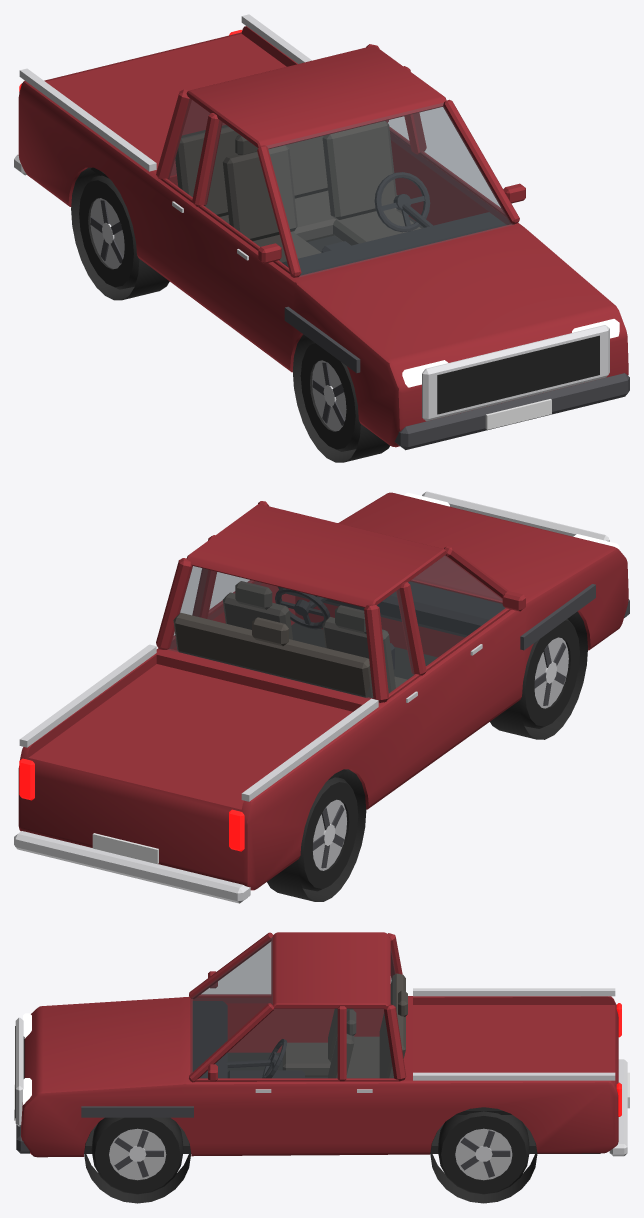
Rendered from pickup_us.glb.
3 views of the same model, one above another, from view 1: azimuth 30°, elevation 25°; view 2: azimuth 150°, elevation 25°; view 3: azimuth 270°, elevation 25° (orthographic). The views are drawn at different scales.
Visible parts, largest first — view 1: pickup_us_body, glass, wheel_RR, wheel_FR, steering_wheel; view 2: pickup_us_body, glass, wheel_RR, wheel_FR, steering_wheel; view 3: pickup_us_body, glass, wheel_RL, wheel_FL, steering_wheel.
Boxes of the visible parts, bbox=[...] form: pickup_us_body: bbox=[14, 14, 629, 462]; glass: bbox=[168, 99, 513, 277]; wheel_RR: bbox=[79, 175, 139, 289]; wheel_FR: bbox=[300, 341, 360, 451]; steering_wheel: bbox=[374, 172, 430, 232]; pickup_us_body: bbox=[14, 491, 629, 903]; glass: bbox=[168, 555, 504, 698]; wheel_RR: bbox=[298, 777, 358, 891]; wheel_FR: bbox=[520, 619, 579, 728]; steering_wheel: bbox=[275, 587, 330, 629]; pickup_us_body: bbox=[14, 932, 629, 1203]; glass: bbox=[190, 937, 395, 1077]; wheel_RL: bbox=[438, 1111, 529, 1194]; wheel_FL: bbox=[91, 1117, 183, 1194]; steering_wheel: bbox=[262, 1039, 287, 1078].
Bounding box in the file's own units: 2.12 × 1.89 × 5.48.
